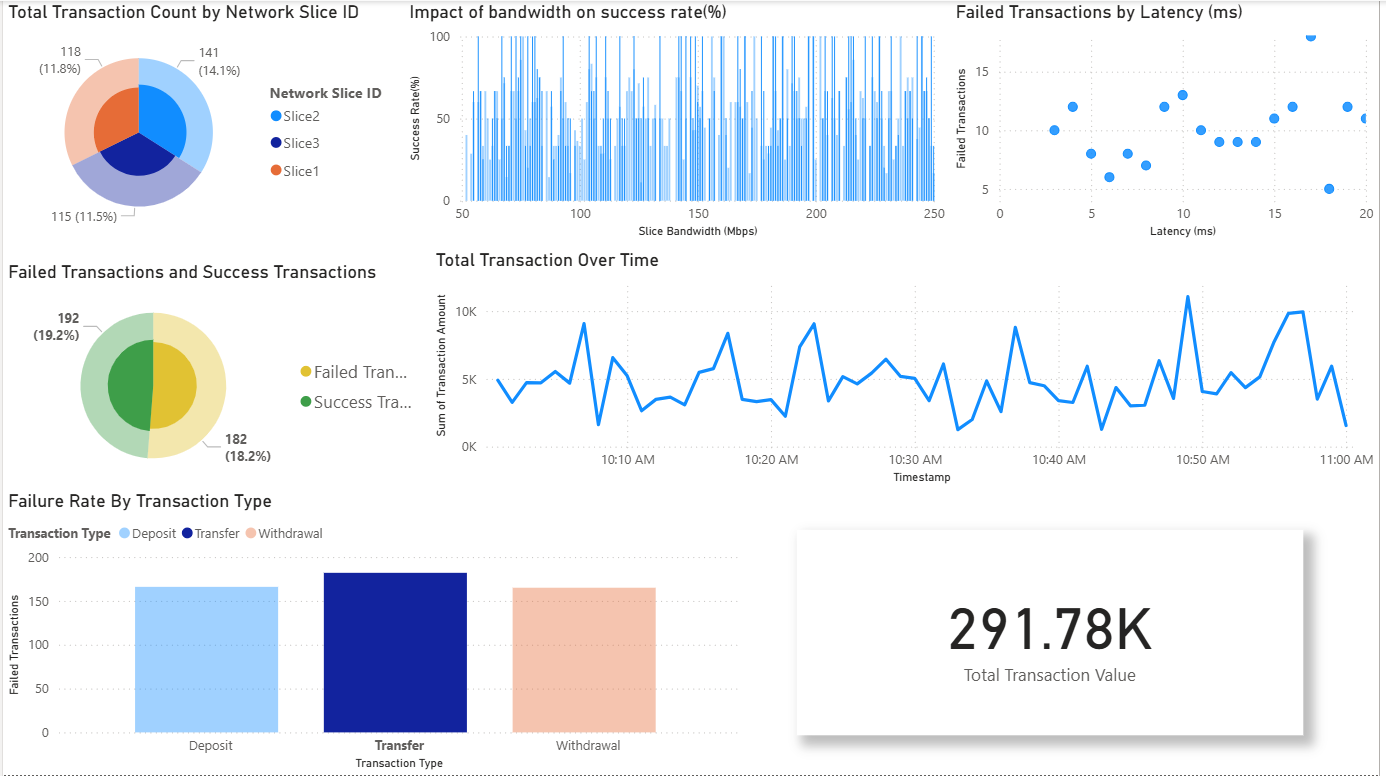

This screenshot's page, from the dashboard's own definition file:
{"tool":"powerbi","page":{"name":"Page 1","canvas":[1280,720],"ordinal":0},"visuals":[{"type":"card","fields":{"Values":["transaction_data.Toutal Transaction Value"]},"box":[738.6,491.4,471.4,191.4],"z":0},{"type":"lineChart","title":"Total Transaction Over Time","fields":{"Y":["Sum(transaction_data.Transaction Amount)"],"Category":["transaction_data.Timestamp"]},"box":[397.1,230,882.9,224.3],"z":2000},{"type":"pieChart","fields":{"Y":["transaction_data.Failed Transactions","transaction_data.Success Transactions"]},"box":[0,241.4,397.1,212.9],"z":3000},{"type":"columnChart","title":"Failure Rate By Transaction Type","fields":{"Y":["transaction_data.Failed Transactions"],"Series":["transaction_data.Transaction Type"],"Category":["transaction_data.Transaction Type","transaction_data.Device Used"]},"box":[0,454.3,690,265.7],"z":4000},{"type":"scatterChart","fields":{"X":["transaction_data.Latency (ms)"],"Y":["transaction_data.Failed Transactions"]},"box":[881.4,0,398.6,225.7],"z":6000},{"type":"pieChart","fields":{"Category":["transaction_data.Network Slice ID"],"Y":["transaction_data.Total Transaction Count"]},"box":[0,0,372.9,225.7],"z":7000},{"type":"clusteredColumnChart","title":"Impact of bandwidth on success rate(%)","fields":{"Y":["transaction_data.Success Rate(%)"],"Category":["transaction_data.Slice Bandwidth (Mbps)"]},"box":[372.9,0,508.6,225.7],"z":8000}]}

Visuals, with their boxes in screenshot pixels (x1, y1, x2, y2), scaled from the page's 1280x720 canvas onto the 1386x776 screenshot:
card - transaction_data.Toutal Transaction Value: 800,530,1310,736
"Total Transaction Over Time" lineChart: 430,248,1385,490
pieChart - transaction_data.Failed Transactions x transaction_data.Success Transactions: 0,260,430,490
"Failure Rate By Transaction Type" columnChart: 0,490,747,775
scatterChart - transaction_data.Latency (ms) x transaction_data.Failed Transactions: 954,0,1385,243
pieChart - transaction_data.Network Slice ID x transaction_data.Total Transaction Count: 0,0,404,243
"Impact of bandwidth on success rate(%)" clusteredColumnChart: 404,0,954,243
